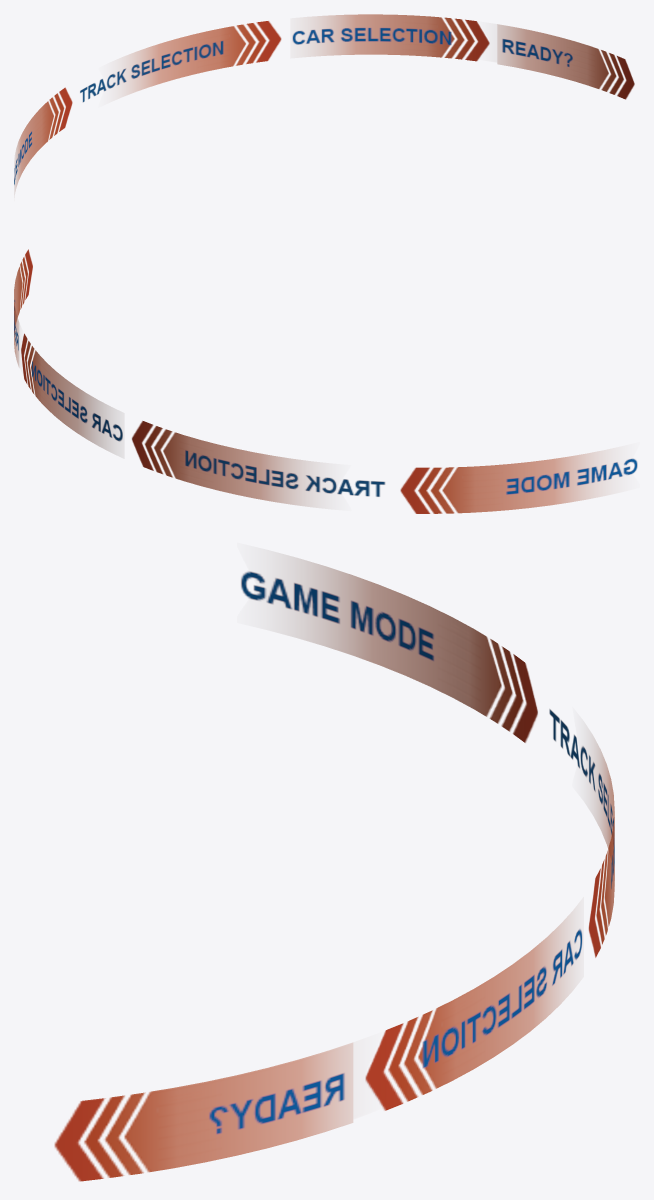
Rendered from menuTitles.glb.
3 renders of one model, top to bottom at view 1: azimuth 30°, elevation 25°; view 2: azimuth 150°, elevation 25°; view 3: azimuth 270°, elevation 25°, orthographic. The views are drawn at different scales.
Visible parts, largest first — view 1: carSelection, trackSelection, ready, gameMode; view 2: gameMode, trackSelection, carSelection, ready; view 3: ready, gameMode, carSelection, trackSelection.
Boxes of the visible parts, left/top/right/bottom form: carSelection: left=292, top=14, right=489, bottom=61; trackSelection: left=80, top=21, right=281, bottom=102; ready: left=497, top=24, right=634, bottom=99; gameMode: left=14, top=87, right=72, bottom=194; gameMode: left=400, top=448, right=637, bottom=513; trackSelection: left=132, top=421, right=385, bottom=507; carSelection: left=21, top=333, right=122, bottom=455; ready: left=14, top=249, right=32, bottom=365; ready: left=54, top=1043, right=352, bottom=1181; gameMode: left=241, top=553, right=537, bottom=742; carSelection: left=365, top=904, right=582, bottom=1110; trackSelection: left=549, top=709, right=614, bottom=957.
Bounding box in the file's own units: 13.49 × 0.8998 × 5.83.
Materials: 1 (1 with a texture image).
